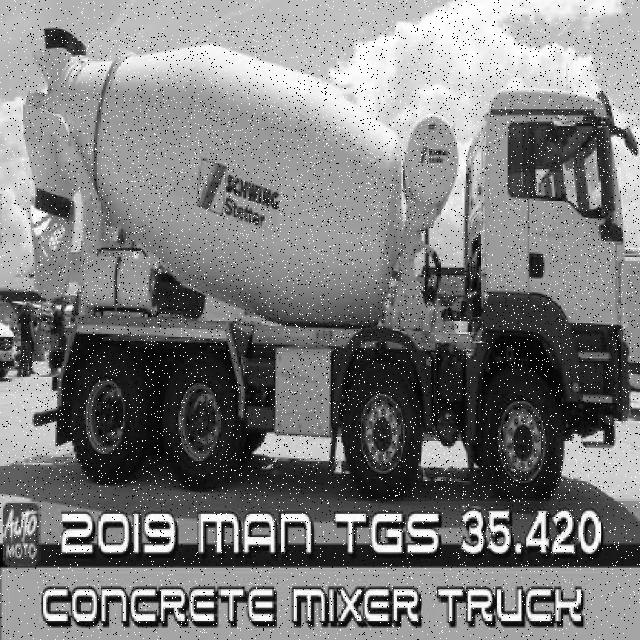Concrete Mixer: (22, 28, 640, 500)
